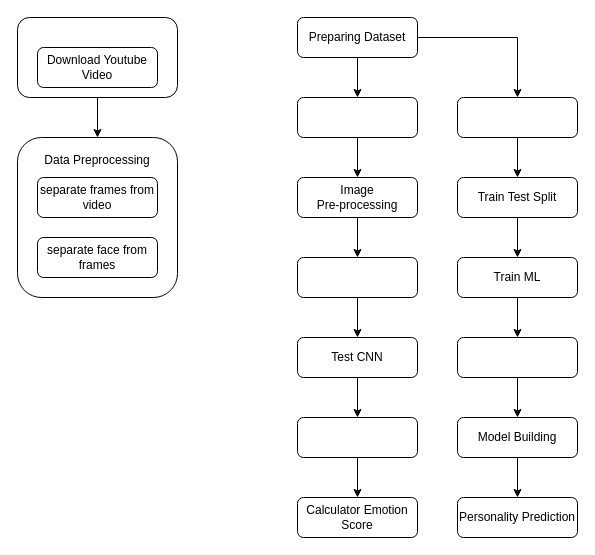
The diagram is 595 pixels wide and 555 high, and some of its shapes have lost their labels. The shapes that lost their labels are listed below. From the top down, each one's box as (x1, y1, x2, y2) in pixels, then its label:
(16, 16, 178, 98): Data Collection
(296, 96, 418, 138): Obtaining Face Region of Image
(456, 96, 578, 138): Big Five Personality Data Segregation
(296, 256, 418, 298): Train CNN
(456, 336, 578, 378): Test ML
(296, 416, 418, 458): Facial Emotion Recognition
